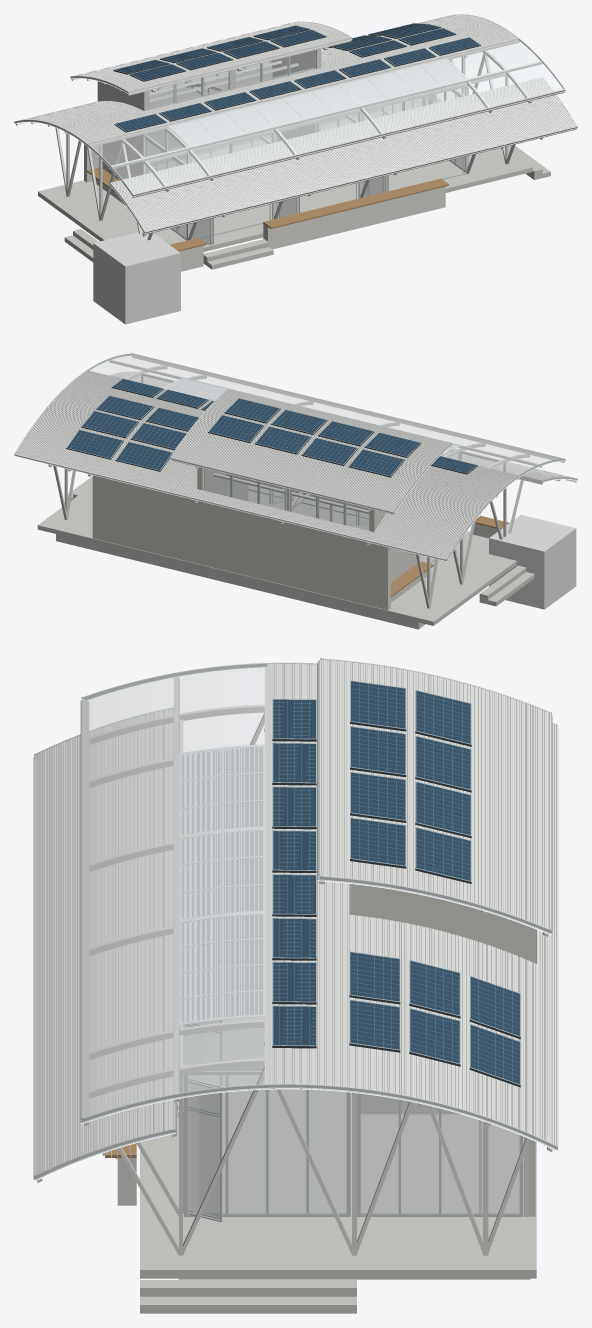
The model's file is solarhouse_r9_pv_open.glb.
The picture shows the model from 3 angles, top to bottom: view 1: azimuth 30°, elevation 25°; view 2: azimuth 150°, elevation 25°; view 3: azimuth 270°, elevation 25°; orthographic projection. The views are drawn at different scales.
Parts seen in each view (by area): view 1: 主屋盖_连续玻璃整体, 下挑檐_曲面覆层, 平台_14280x6200_顶标高450, 主屋盖_顺檩条无缝分带, Cube, 高窗屋盖_连续曲面, 南侧长座凳_实体基座, 北后墙_高窗下实体, 高窗西侧实体墙, 檩条002_2, 南侧连续横梁_Z3.55, 高窗东侧室内隔墙 (+43 smaller); view 2: 主屋盖_顺檩条无缝分带, 高窗屋盖_连续曲面, 北后墙_高窗下实体, 平台_14280x6200_顶标高450, 主屋盖_连续玻璃整体, 北后墙_东侧会谈区, Cube, 平台基础_按DWG剖面, 檩条002_1, 下挑檐_曲面覆层, PV | rear east roof | module 05, PV | rear east roof | module 06 (+31 smaller); view 3: 主屋盖_连续玻璃整体, 平台_14280x6200_顶标高450, 下挑檐_曲面覆层, 主屋盖_顺檩条无缝分带, 高窗屋盖_连续曲面, 高窗东侧室内隔墙, 东立面_折叠门1_2600x2500_扇2_玻璃, 东立面_折叠门1_2600x2500_扇4_玻璃, 东立面_折叠门1_2600x2500_扇3_玻璃, 东立面_折叠门2_2600x2500_扇1_玻璃, 东入口踏步1_踏步300_踢面150, 东立面_折叠门2_2600x2500_扇2_玻璃 (+54 smaller).
Part boxes in pixels (x1,y1,x2,y2): 主屋盖_连续玻璃整体: [88, 39, 563, 193]; 下挑檐_曲面覆层: [111, 77, 576, 232]; 平台_14280x6200_顶标高450: [38, 98, 532, 251]; 主屋盖_顺檩条无缝分带: [19, 14, 565, 195]; Cube: [93, 231, 180, 324]; 高窗屋盖_连续曲面: [72, 21, 351, 92]; 南侧长座凳_实体基座: [263, 186, 445, 249]; 北后墙_高窗下实体: [84, 68, 272, 182]; 高窗西侧实体墙: [97, 81, 148, 180]; 檩条002_2: [109, 61, 542, 169]; 南侧连续横梁_Z3.55: [147, 73, 506, 162]; 高窗东侧室内隔墙: [270, 50, 320, 141]; 主屋盖_顺檩条无缝分带: [14, 353, 563, 560]; 高窗屋盖_连续曲面: [170, 388, 450, 513]; 北后墙_高窗下实体: [197, 501, 390, 610]; 平台_14280x6200_顶标高450: [37, 485, 516, 625]; 主屋盖_连续玻璃整体: [89, 354, 562, 474]; 北后墙_东侧会谈区: [92, 475, 197, 563]; Cube: [489, 514, 576, 609]; 平台基础_按DWG剖面: [56, 534, 425, 629]; 檩条002_1: [132, 355, 564, 462]; 下挑檐_曲面覆层: [110, 371, 571, 481]; PV | rear east roof | module 05: [115, 441, 172, 471]; PV | rear east roof | module 06: [66, 429, 123, 459]; 主屋盖_连续玻璃整体: [84, 664, 266, 1117]; 平台_14280x6200_顶标高450: [140, 916, 536, 1278]; 下挑檐_曲面覆层: [34, 708, 175, 1176]; 主屋盖_顺檩条无缝分带: [81, 663, 557, 1146]; 高窗屋盖_连续曲面: [319, 659, 551, 929]; 高窗东侧室内隔墙: [352, 884, 535, 1114]; 东立面_折叠门1_2600x2500_扇2_玻璃: [228, 1075, 265, 1212]; 东立面_折叠门1_2600x2500_扇4_玻璃: [309, 1090, 346, 1212]; 东立面_折叠门1_2600x2500_扇3_玻璃: [269, 1089, 305, 1212]; 东立面_折叠门2_2600x2500_扇1_玻璃: [361, 1094, 398, 1212]; 东入口踏步1_踏步300_踢面150: [140, 1296, 356, 1313]; 东立面_折叠门2_2600x2500_扇2_玻璃: [401, 1100, 438, 1212].
Size of the model in its own units: 15.97 by 5.95 by 8.2.
